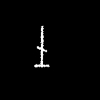double_crochet: (35, 26, 48, 66)
